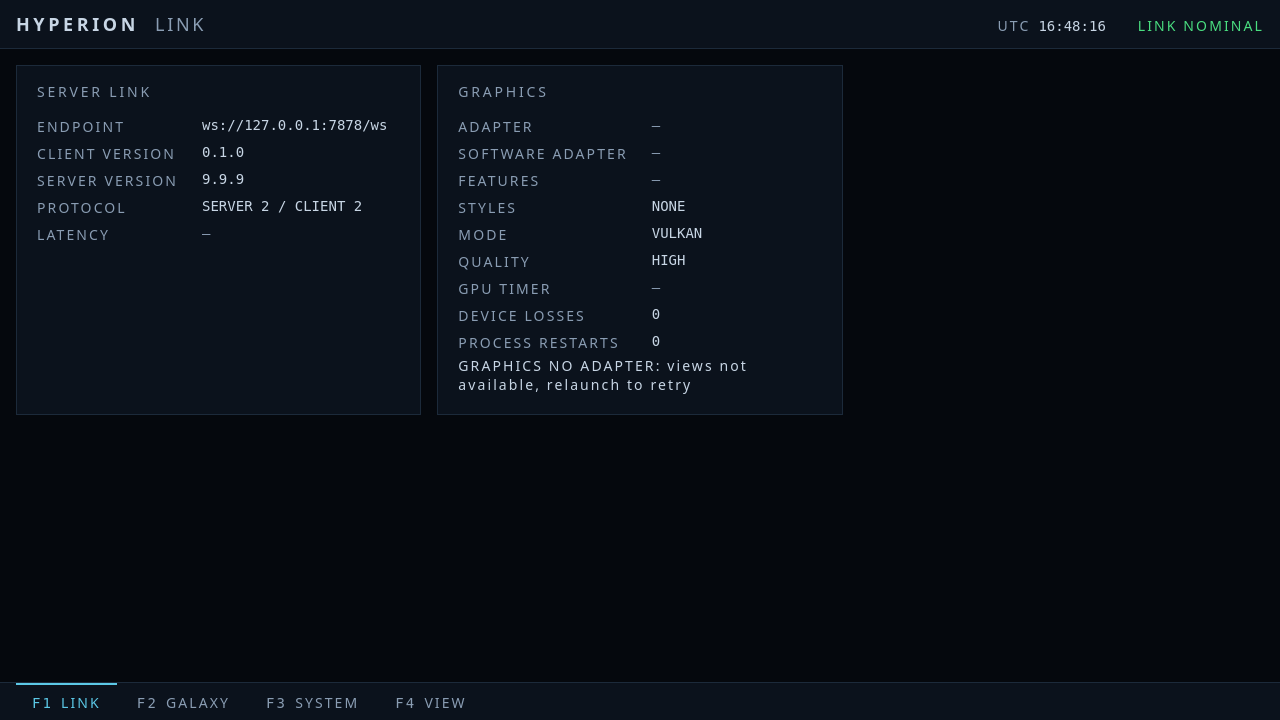
it: the GALAXY readout's stars › reads a living star: its kind, class, mass now, light, size, temperature and magnitude
The image size is (1280, 720).
Press F2
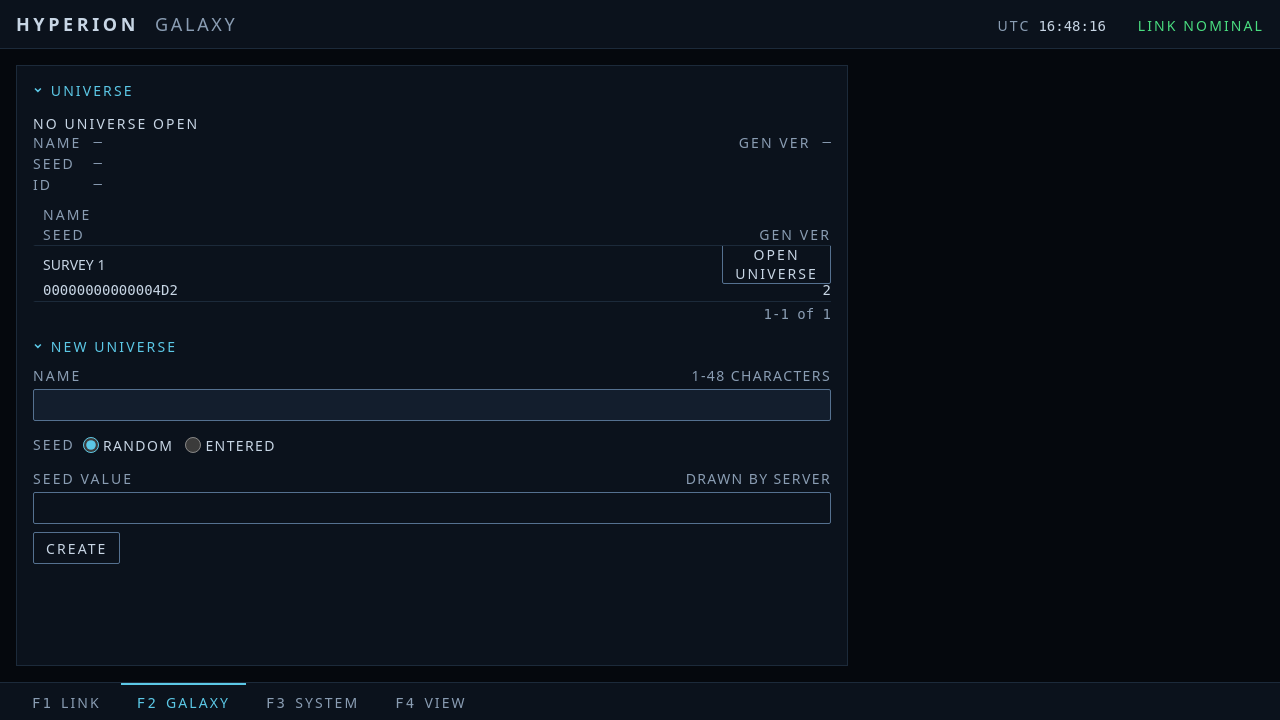
Click the button with aria-label "Open universe SURVEY 1": (777, 264) [722,244,831,284]
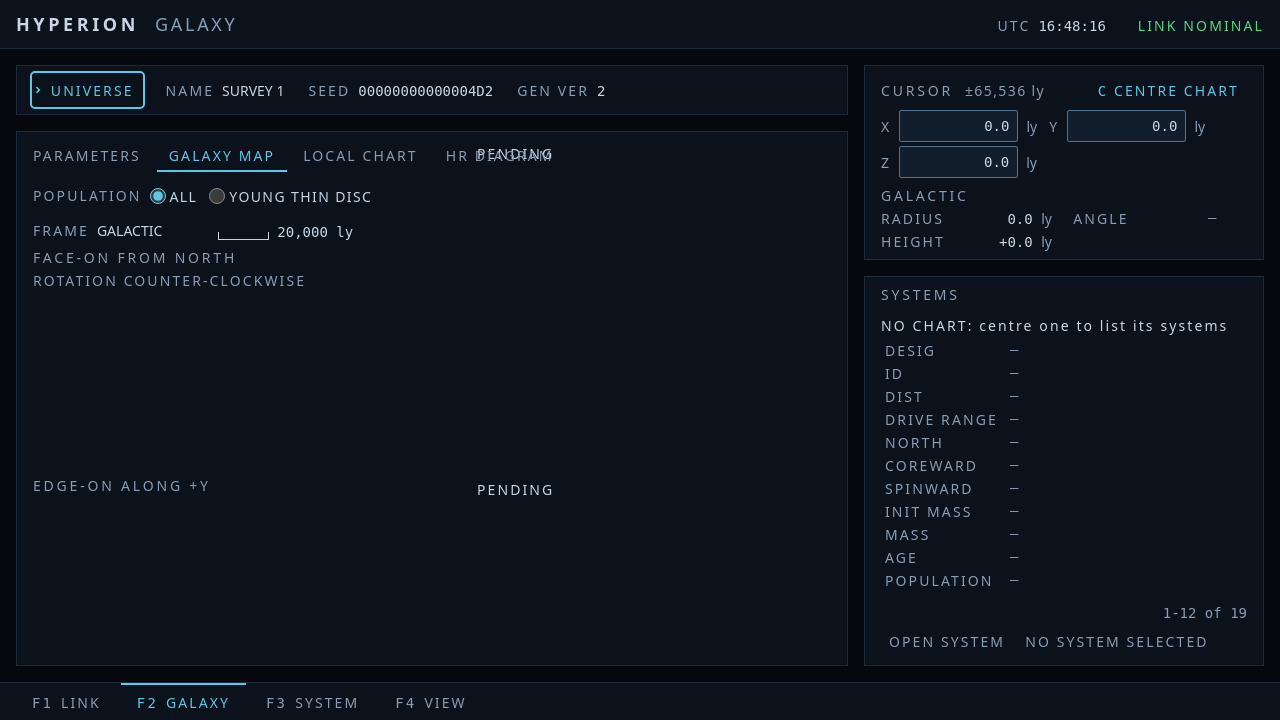
Replace the text in the field labelled "X" with "26000": (959, 126) [899,110,1018,142]
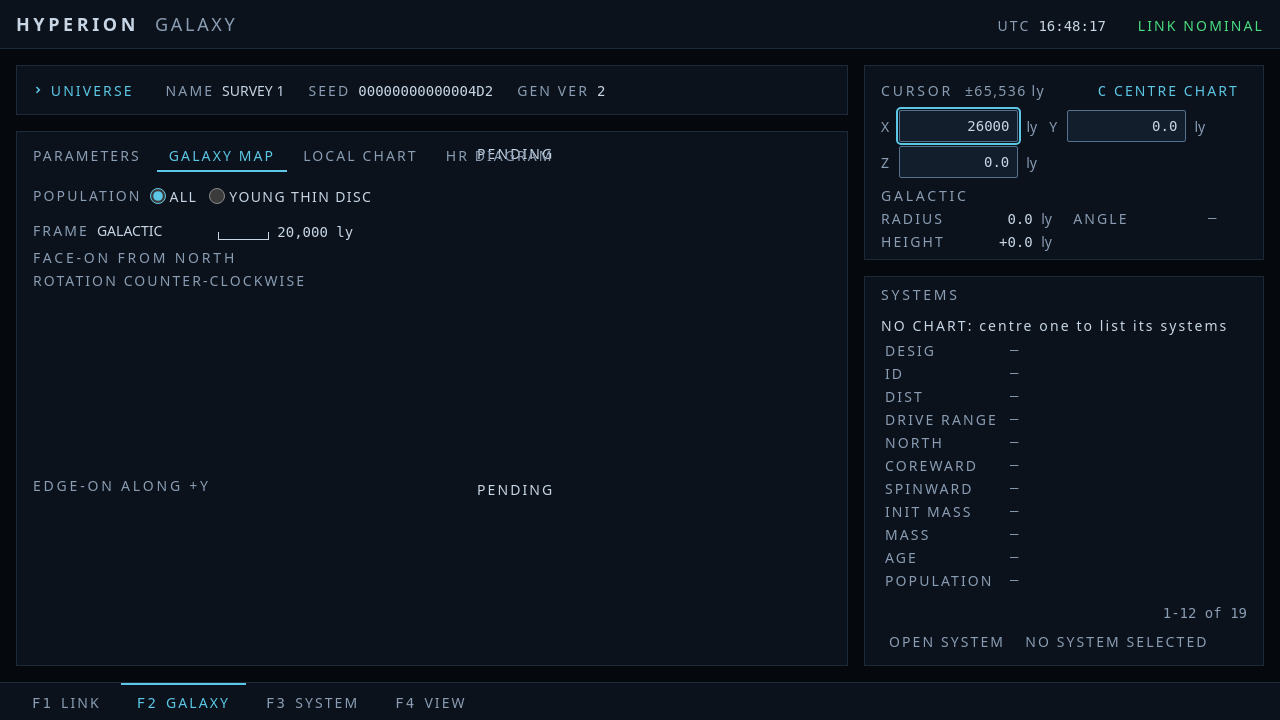
Click the button "C CENTRE CHART": (1168, 90) [1090,74,1247,106]
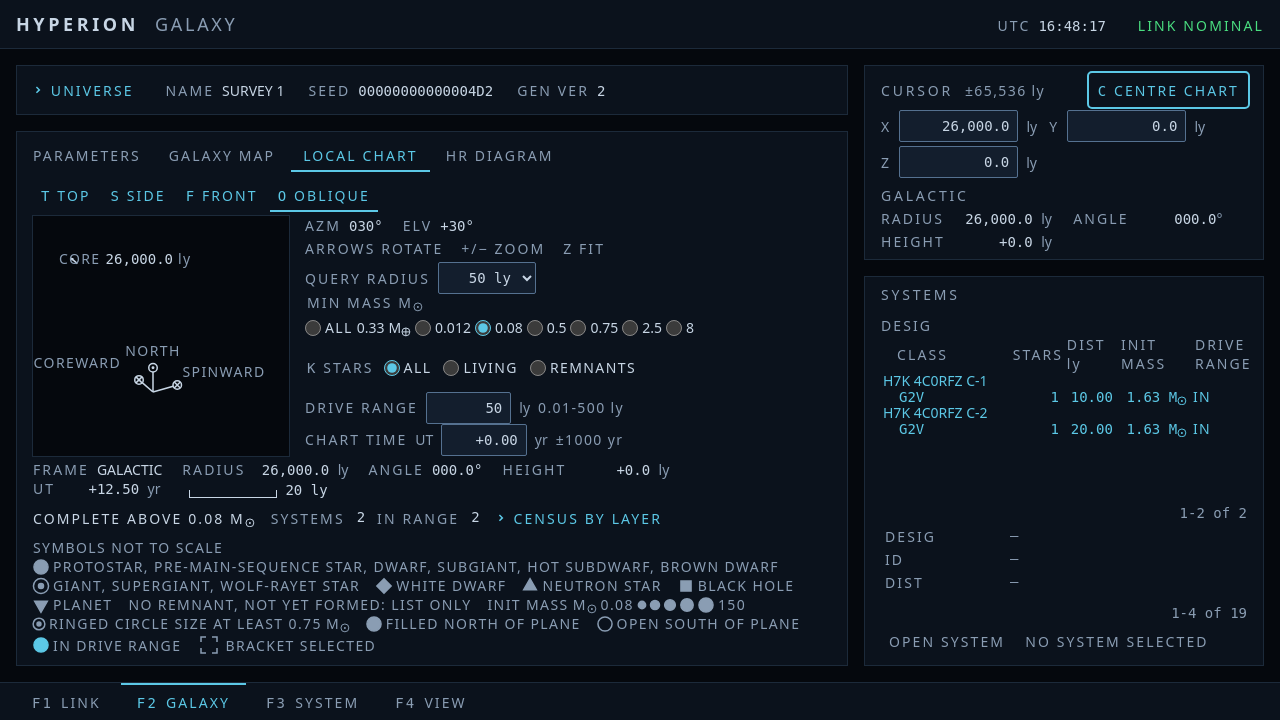
Click the option with aria-label "H7K 4C0RFZ C-1,": (935, 380) [881,373,1247,405]
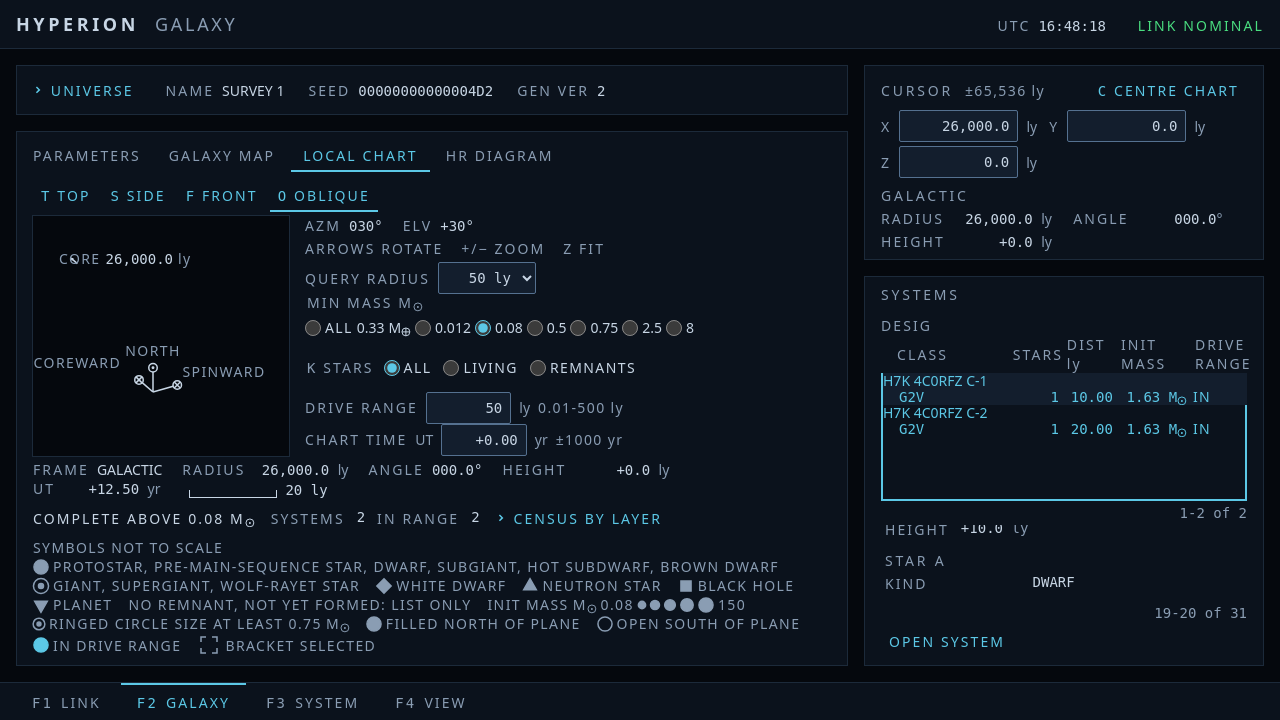
Now the text "G2V" in the row of "10.00" is shown, box [899,389,924,405]
Now the text "DWARF" is shown, box [1032,574,1075,590]
Now the heading "STAR A" is shown, box [885,551,946,570]
